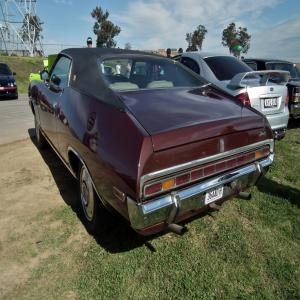Vehicle-registration-plate: (206, 186, 223, 208), (264, 99, 277, 110), (296, 98, 300, 103), (1, 88, 5, 91)
